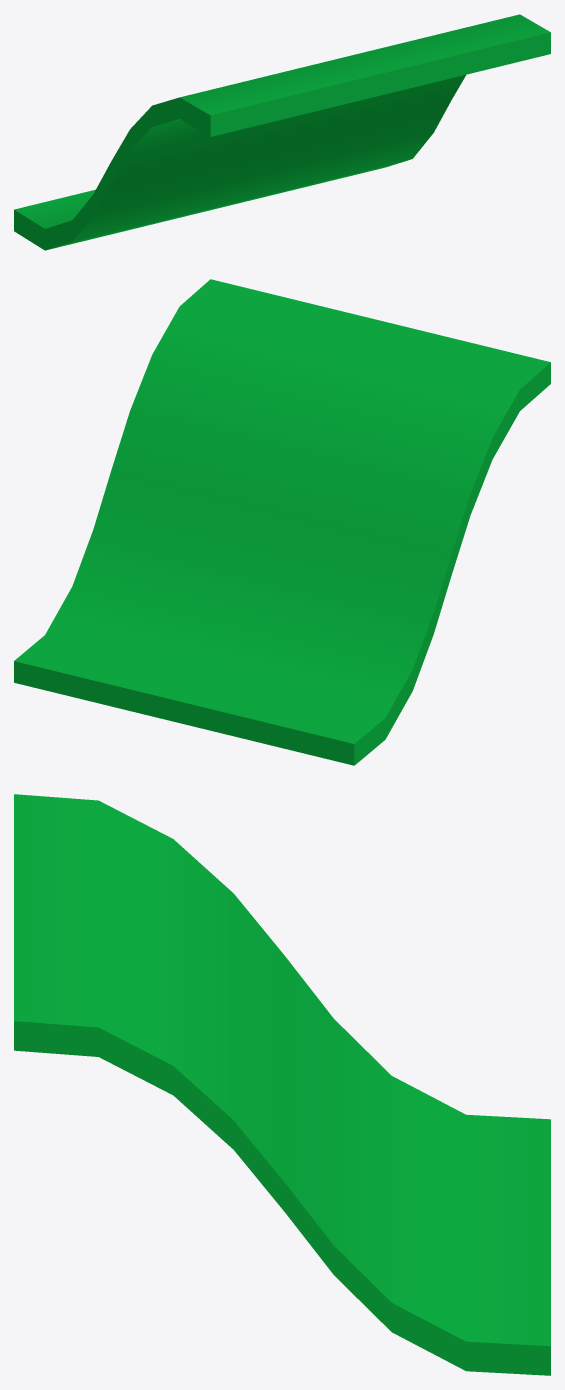
File: basic_slope.gltf
The picture shows the model from 3 angles, top to bottom: view 1: azimuth 30°, elevation 25°; view 2: azimuth 150°, elevation 25°; view 3: azimuth 270°, elevation 25°; orthographic projection. The views are drawn at different scales.
Visible parts, largest first — view 1: basic_slope_glb; view 2: basic_slope_glb; view 3: basic_slope_glb.
Boxes of the visible parts, bbox=[...] form: basic_slope_glb: bbox=[14, 14, 550, 250]; basic_slope_glb: bbox=[14, 279, 550, 765]; basic_slope_glb: bbox=[14, 794, 550, 1375].
Size of what is drawn, in the model's own units: 4 by 2.92 by 4.
1 material, 1 textured.
